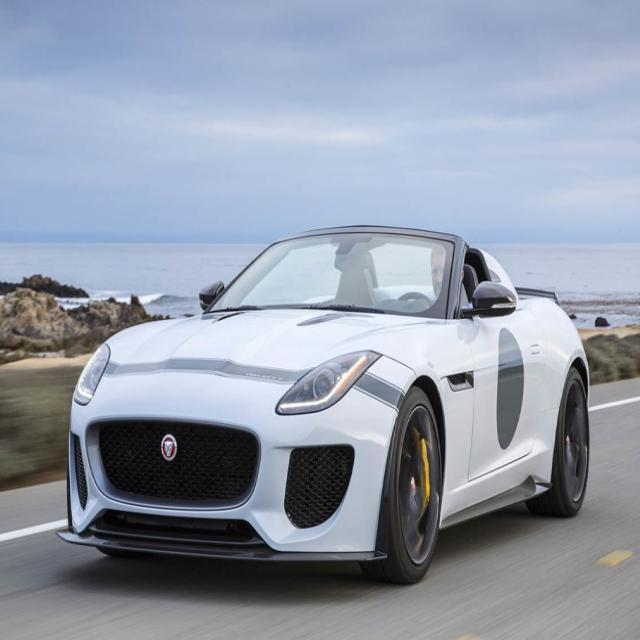front_bumper: (62, 351, 412, 563)
front_glass: (214, 230, 462, 313)
front_left_side_door: (464, 282, 555, 487)
front_left_side_light: (276, 347, 382, 416)
front_left_side_mirror: (469, 277, 518, 321)
front_right_side_light: (72, 335, 115, 409)
front_right_side_mirror: (194, 279, 226, 312)
wheel: (380, 390, 445, 580), (536, 365, 592, 518)
